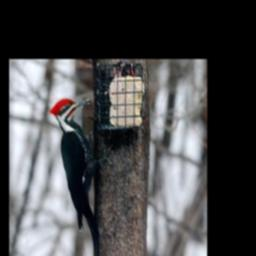Woodpecker: (49, 95, 114, 251)
